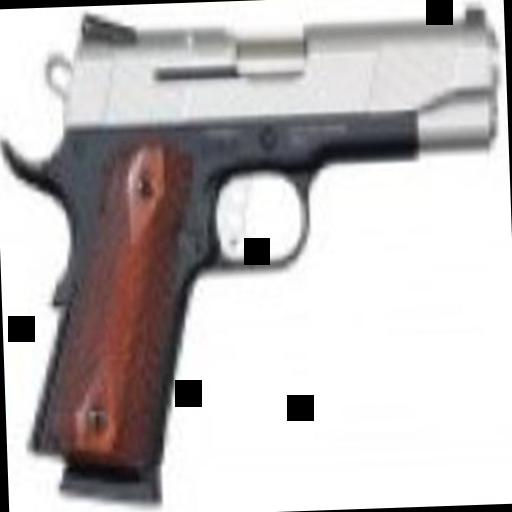Handgun: (6, 0, 511, 484)
